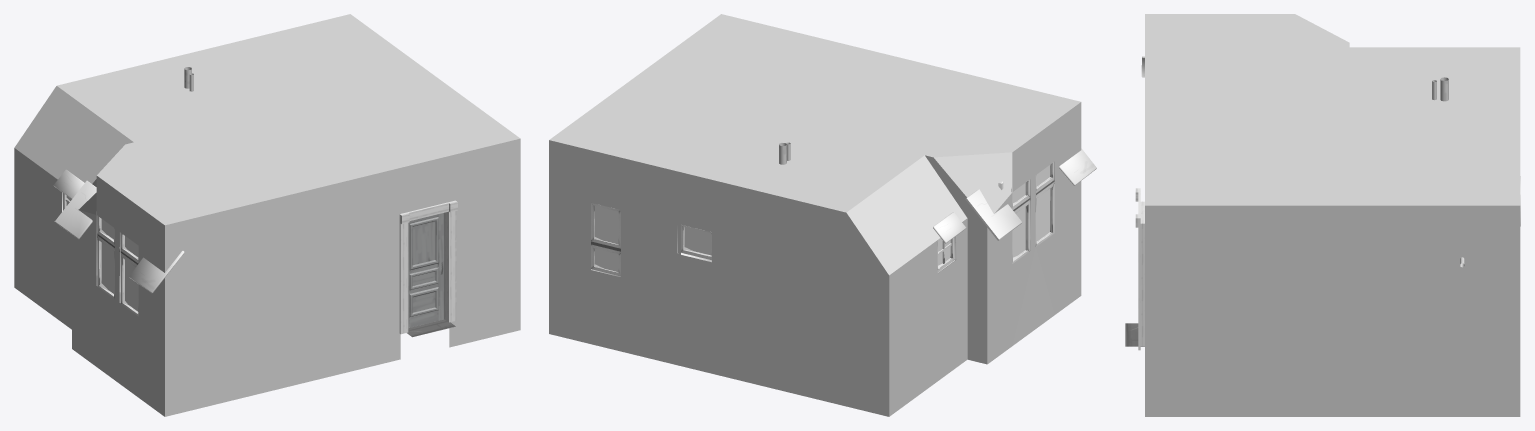
The model's file is env_Apartment.fbx.
3 renders of one model, left to right at view 1: azimuth 30°, elevation 25°; view 2: azimuth 150°, elevation 25°; view 3: azimuth 270°, elevation 25°, orthographic. The views are drawn at different scales.
Parts seen in each view (by area): view 1: Util_SunBlock, obj_FrontDoor, env_DoorFrame, env_Walls, env_Window.001, env_Window, env_LivingRoomWindow.000, env_LivingRoomWindow.001, env_Walls.001; view 2: Util_SunBlock, env_Walls, env_Window.004, env_KitchenWindow.000, env_Window, env_Walls.001, env_LivingRoomWindow.001, env_LivingRoomWindow.000, env_Window.001, env_Window.003; view 3: Util_SunBlock, env_DoorFrame, env_Walls.
Part boxes in pixels (x1,y1,x2,y2): Util_SunBlock: [14, 14, 520, 416]; obj_FrontDoor: [408, 212, 444, 327]; env_DoorFrame: [399, 200, 457, 334]; env_Walls: [55, 180, 455, 337]; env_Window.001: [101, 219, 113, 293]; env_Window: [125, 236, 138, 311]; env_LivingRoomWindow.000: [97, 216, 119, 298]; env_LivingRoomWindow.001: [119, 233, 138, 316]; env_Walls.001: [53, 169, 84, 221]; Util_SunBlock: [549, 14, 1081, 416]; env_Walls: [591, 148, 1096, 277]; env_Window.004: [594, 206, 618, 271]; env_KitchenWindow.000: [591, 203, 620, 276]; env_Window: [1036, 165, 1050, 240]; env_Walls.001: [933, 198, 998, 273]; env_LivingRoomWindow.001: [1035, 162, 1054, 246]; env_LivingRoomWindow.000: [1011, 179, 1030, 263]; env_Window.001: [1013, 183, 1025, 257]; env_Window.003: [684, 227, 711, 255]; Util_SunBlock: [1145, 14, 1520, 416]; env_DoorFrame: [1135, 188, 1144, 350]; env_Walls: [1125, 56, 1520, 346].
Size of what is drawn, in the model's own units: 6.95 by 3.66 by 5.65.
